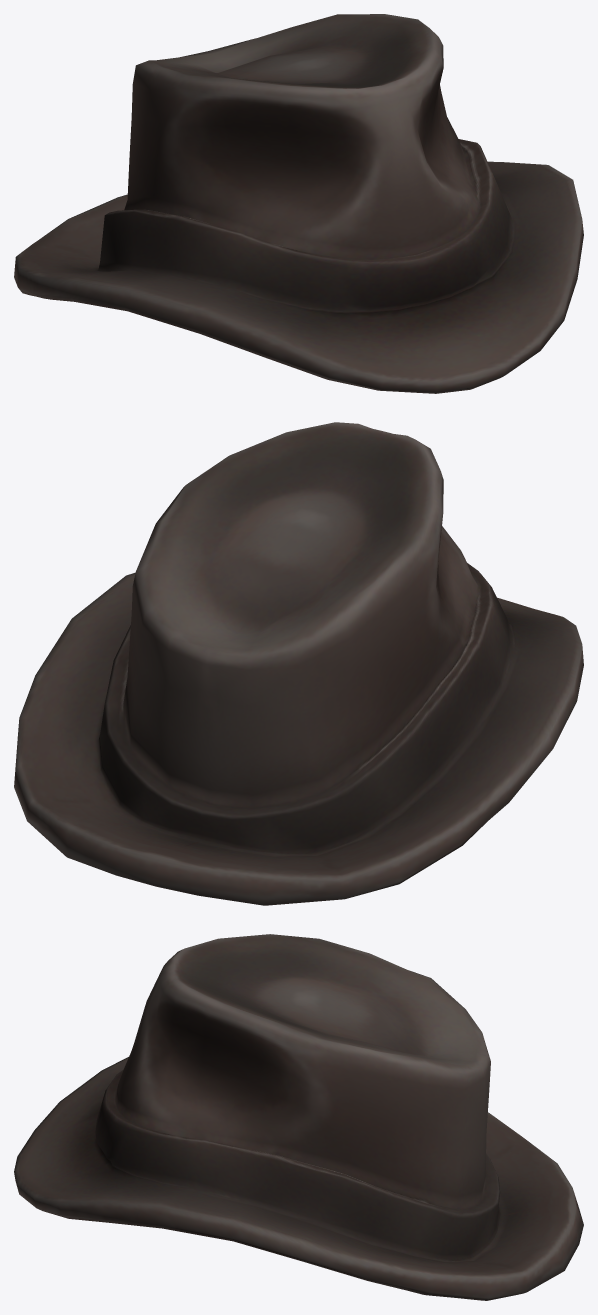
File: Adventure Hat.FBX
3 views of the same model, one above another, from view 1: azimuth 30°, elevation 25°; view 2: azimuth 150°, elevation 25°; view 3: azimuth 270°, elevation 25° (orthographic). The views are drawn at different scales.
Visible parts, largest first — view 1: Adventure Hat; view 2: Adventure Hat; view 3: Adventure Hat.
Part boxes in pixels (left/top/right/bottom): Adventure Hat: left=14, top=14, right=583, bottom=393; Adventure Hat: left=14, top=422, right=583, bottom=905; Adventure Hat: left=14, top=934, right=583, bottom=1300.
Bounding box in the file's own units: 35.74 × 41.01 × 22.23.
